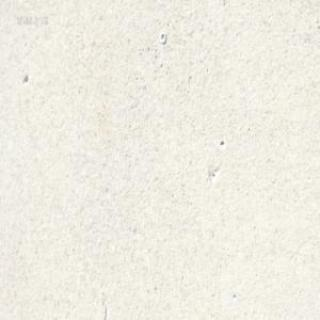Washertrack_idkeyframe: (158, 31, 166, 43)
